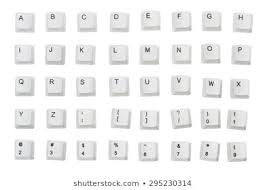keyboard: (3, 0, 257, 167)
